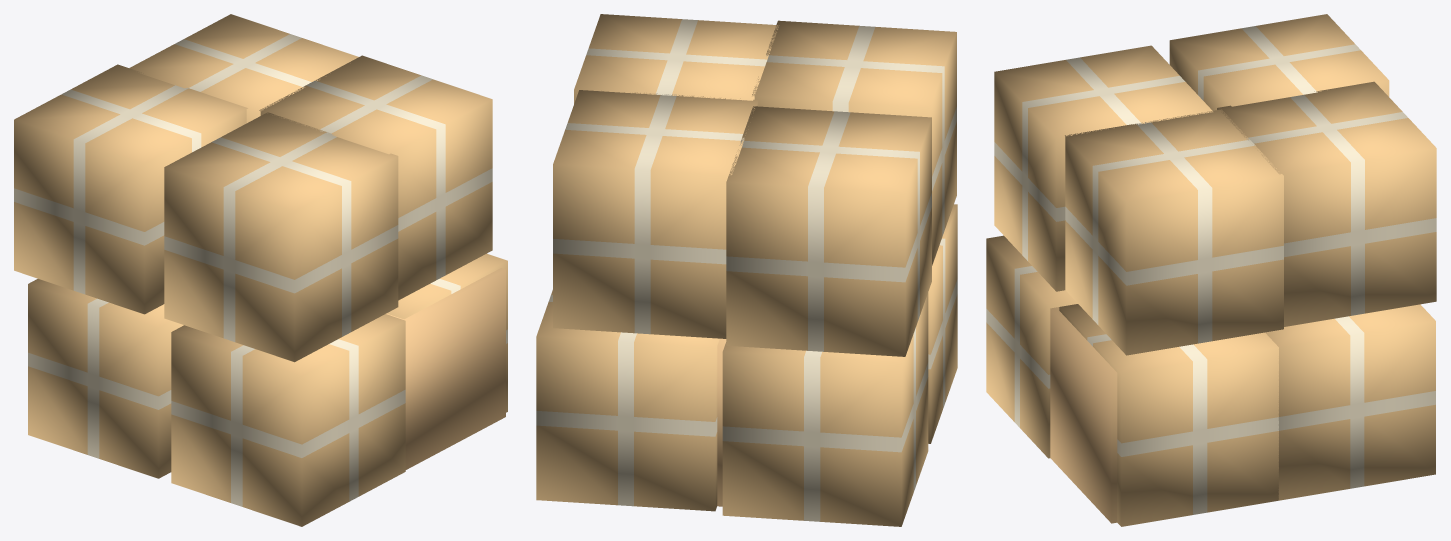
File: boxtruckboxonly.glb
3 views of the same model, side by side, from view 1: azimuth 30°, elevation 25°; view 2: azimuth 150°, elevation 25°; view 3: azimuth 270°, elevation 25° (orthographic). The views are drawn at different scales.
Visible parts, largest first — view 1: Box_3.008; view 2: Box_3.008; view 3: Box_3.008.
Boxes of the visible parts, box(x1,y1,x2,y2) form: Box_3.008: box(14, 14, 507, 526); Box_3.008: box(536, 14, 957, 526); Box_3.008: box(986, 14, 1436, 526).
Size of the model in its own units: 25.31 by 19.34 by 24.78.
1 material, 1 textured.
